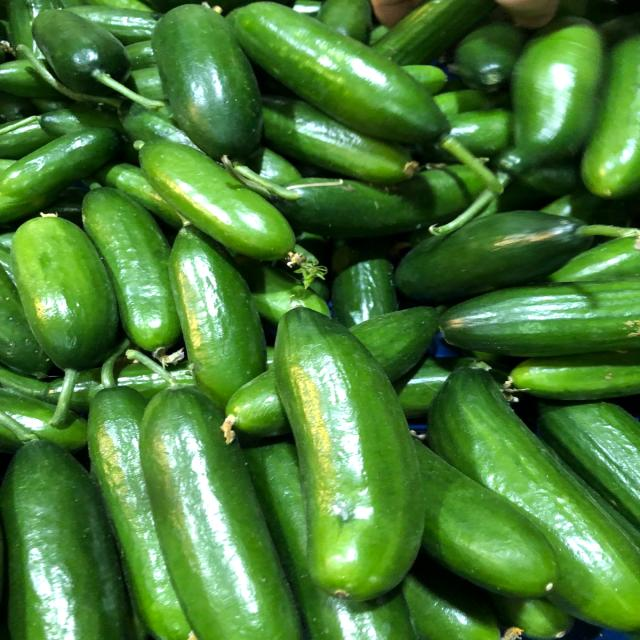cucumber: (114, 351, 318, 640), (265, 301, 432, 605), (132, 132, 343, 285), (10, 206, 121, 428)
